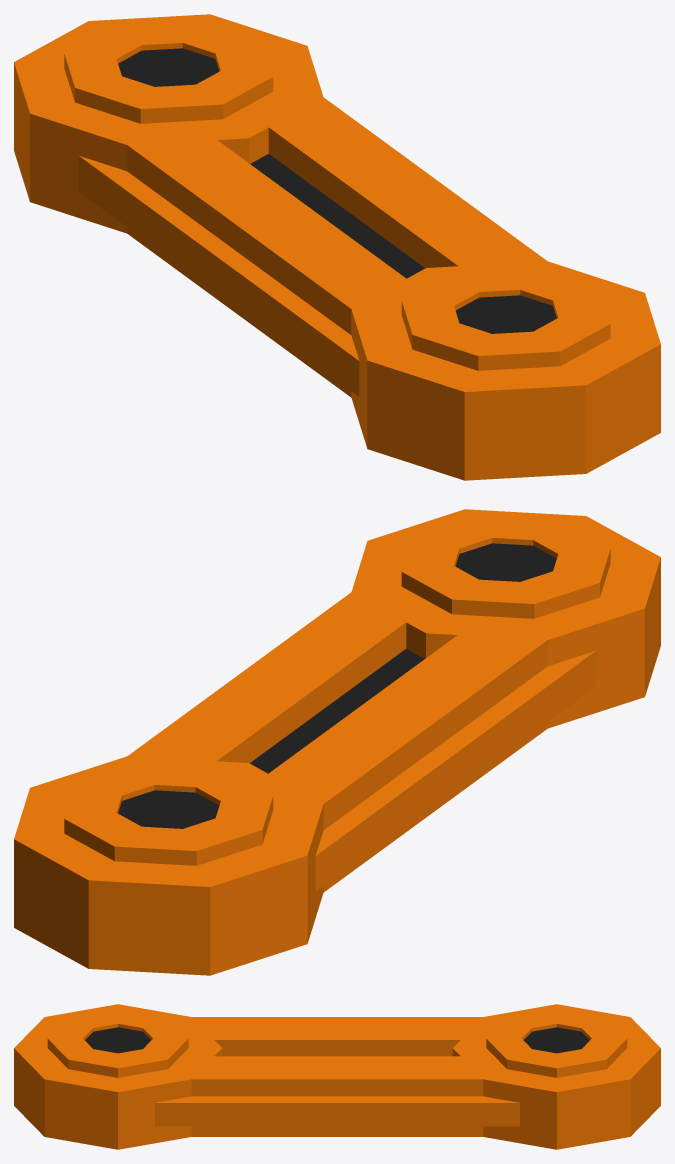
File: Prop_Industrial_Robotic_Arm_Bar_01.FBX
3 views of the same model, one above another, from view 1: azimuth 30°, elevation 25°; view 2: azimuth 150°, elevation 25°; view 3: azimuth 270°, elevation 25° (orthographic). The views are drawn at different scales.
Parts seen in each view (by area): view 1: Prop_Industrial_Robotic_Arm_Bar_01; view 2: Prop_Industrial_Robotic_Arm_Bar_01; view 3: Prop_Industrial_Robotic_Arm_Bar_01.
Boxes of the visible parts, <box> form: Prop_Industrial_Robotic_Arm_Bar_01: <box>14,14,660,480</box>; Prop_Industrial_Robotic_Arm_Bar_01: <box>14,509,660,975</box>; Prop_Industrial_Robotic_Arm_Bar_01: <box>14,1004,660,1149</box>.
Bounding box in the file's own units: 937 × 381 × 2909.
